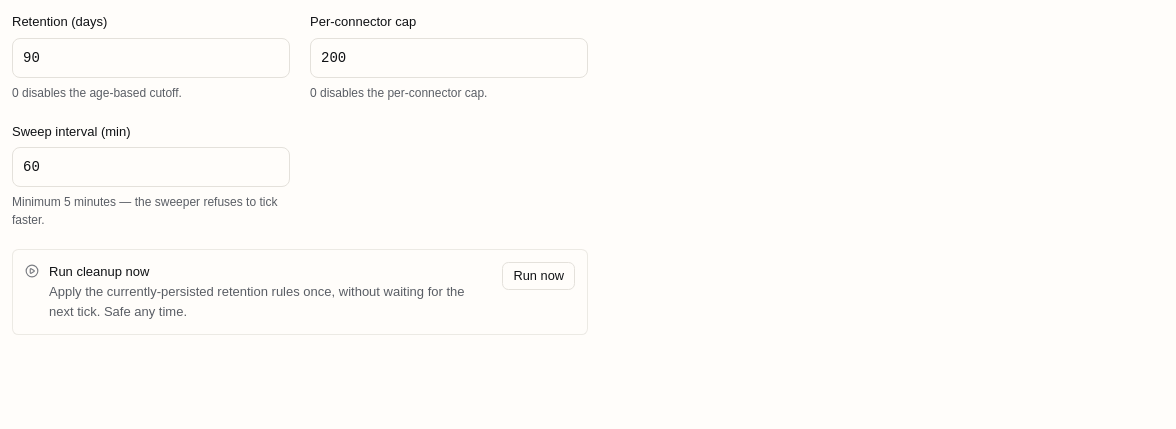
Test: RetentionForm › a sweep-interval below the minimum disables Save
The width and height of the screenshot is (1176, 429).
Replace the text in the number field below "Sweep interval (min)" with "1" at (151, 167), box [12,147,290,187]
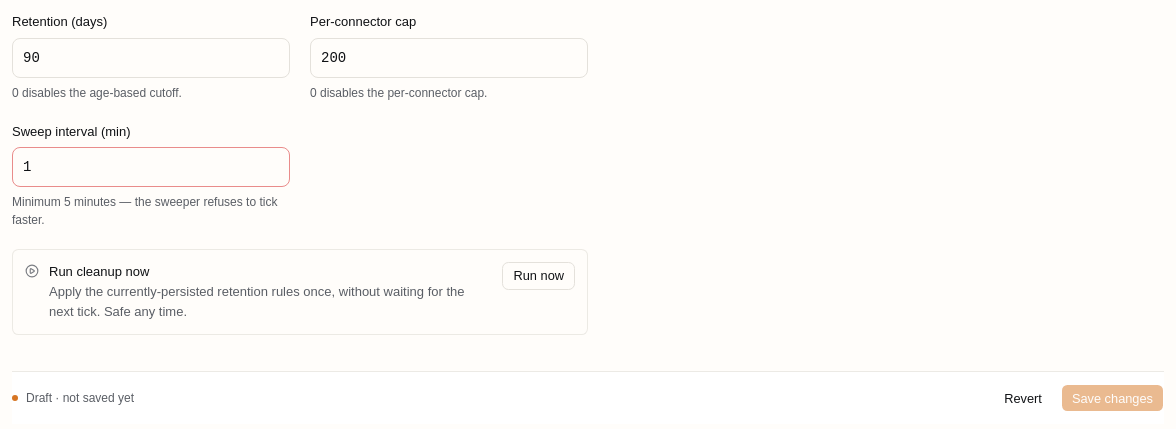
expect the button "Save changes" is disabled: met, box [1061,384,1164,412]
